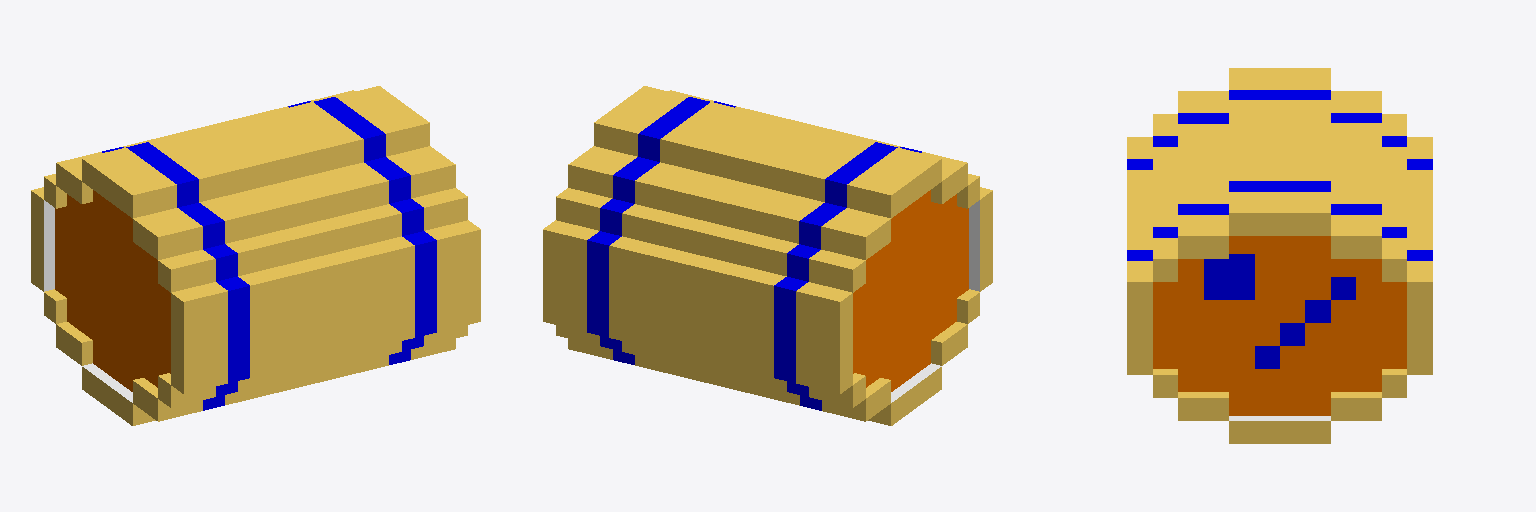
The model's file is Barrel.obj.
3 renders of one model, left to right at view 1: azimuth 30°, elevation 25°; view 2: azimuth 150°, elevation 25°; view 3: azimuth 270°, elevation 25°, orthographic.
Visible parts, largest first — view 1: Mesh1 Model; view 2: Mesh1 Model; view 3: Mesh1 Model.
Part boxes in pixels (left/top/right/bottom): Mesh1 Model: left=31, top=86, right=480, bottom=425; Mesh1 Model: left=543, top=86, right=992, bottom=425; Mesh1 Model: left=1127, top=68, right=1432, bottom=443.
Size of the model in its own units: 1.35 by 1 by 1.2.